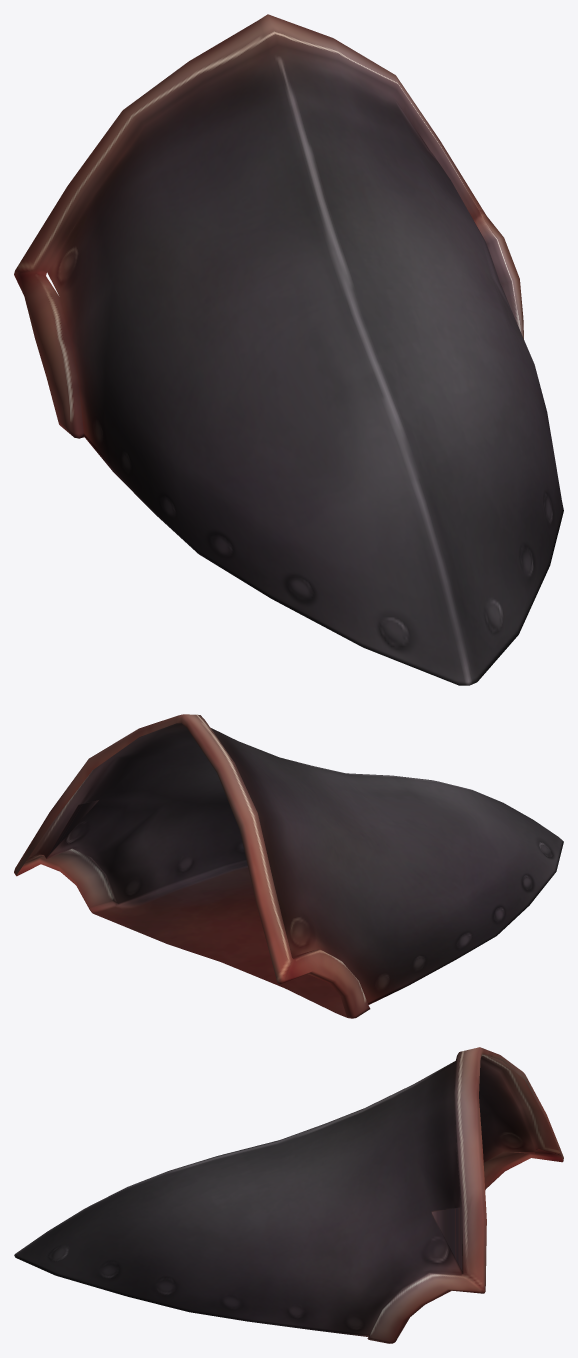
Rendered from sm_skortched_human_feet_front_R.gltf.
3 renders of one model, top to bottom at view 1: azimuth 30°, elevation 25°; view 2: azimuth 150°, elevation 25°; view 3: azimuth 270°, elevation 25°, orthographic. The views are drawn at different scales.
Parts seen in each view (by area): view 1: sm_skortched_human_feet_front_R; view 2: sm_skortched_human_feet_front_R; view 3: sm_skortched_human_feet_front_R.
Part boxes in pixels (bbox=[...]): sm_skortched_human_feet_front_R: bbox=[14, 14, 563, 685]; sm_skortched_human_feet_front_R: bbox=[14, 714, 563, 1018]; sm_skortched_human_feet_front_R: bbox=[14, 1047, 563, 1343].
Bounding box in the file's own units: 0.1855 × 0.1471 × 0.2867.
Materials: 1 (1 with a texture image).
